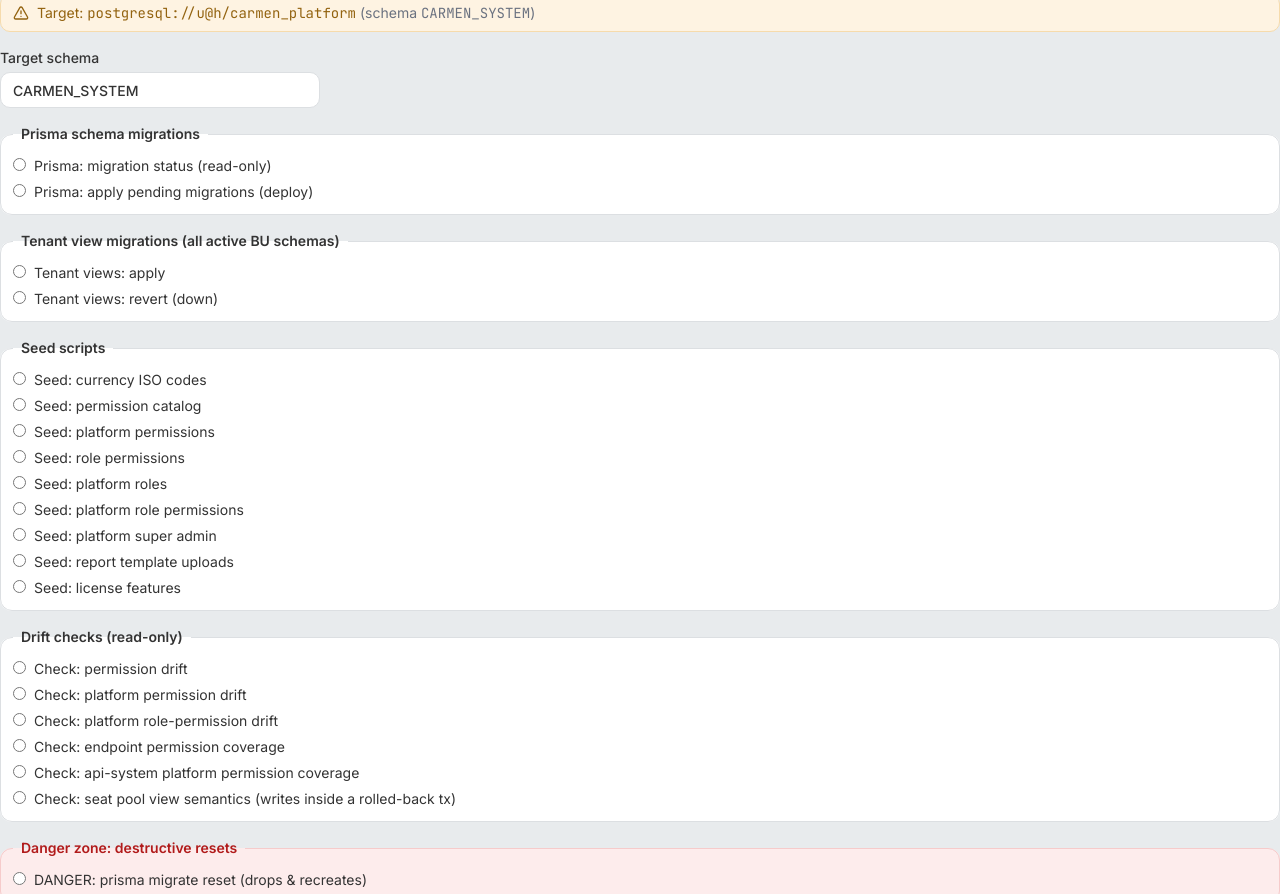
it: destructive op also requires the destroy checkbox
The image size is (1280, 894).
Click the radio button labelled "DANGER: prisma migrate reset (drops & recreates)": click(20, 878) top-left (13, 872), bottom-right (26, 885)
(page scrolled)
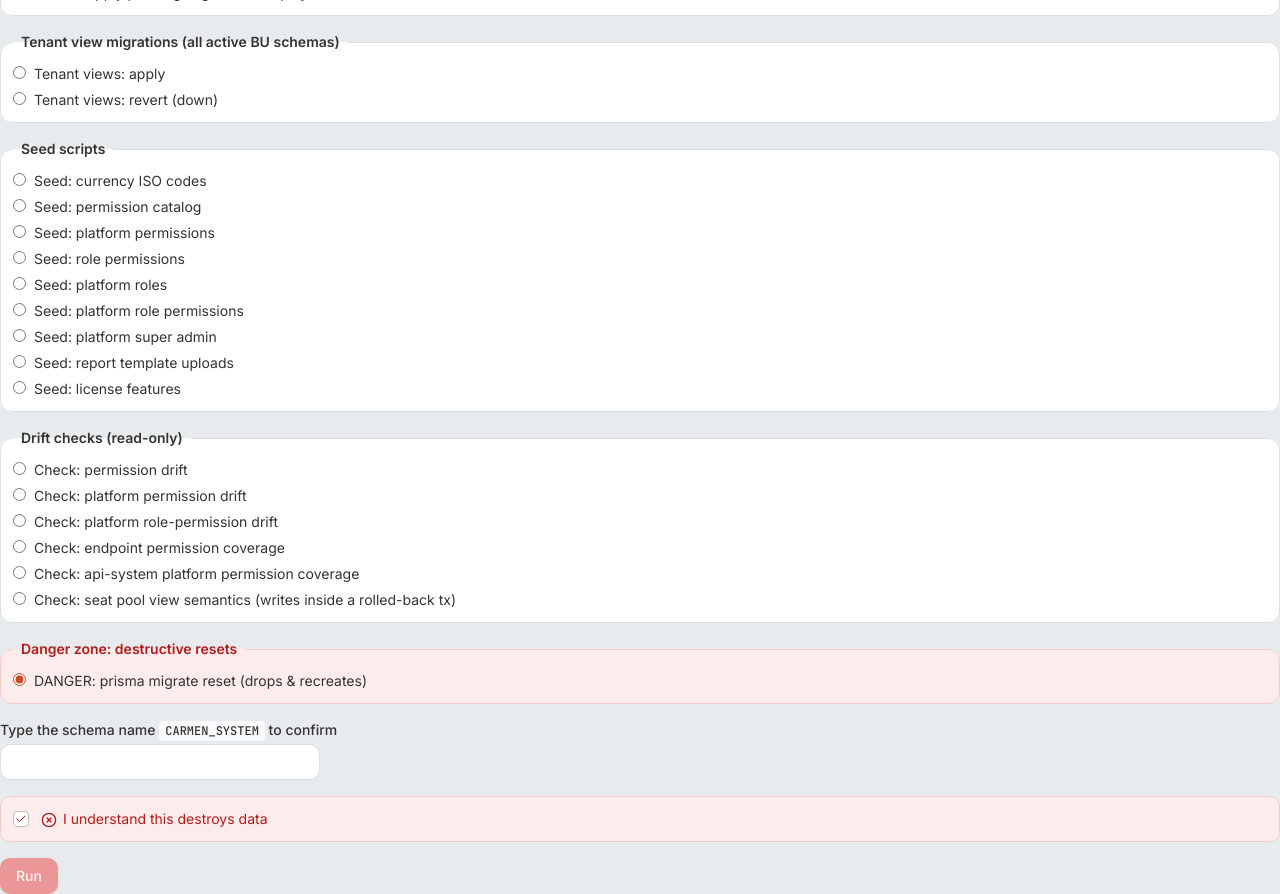
In the field labelled "Type the schema name CARMEN_SYSTEM to confirm": (160, 762) top-left (0, 744), bottom-right (320, 780), type "CARMEN_SYSTEM"
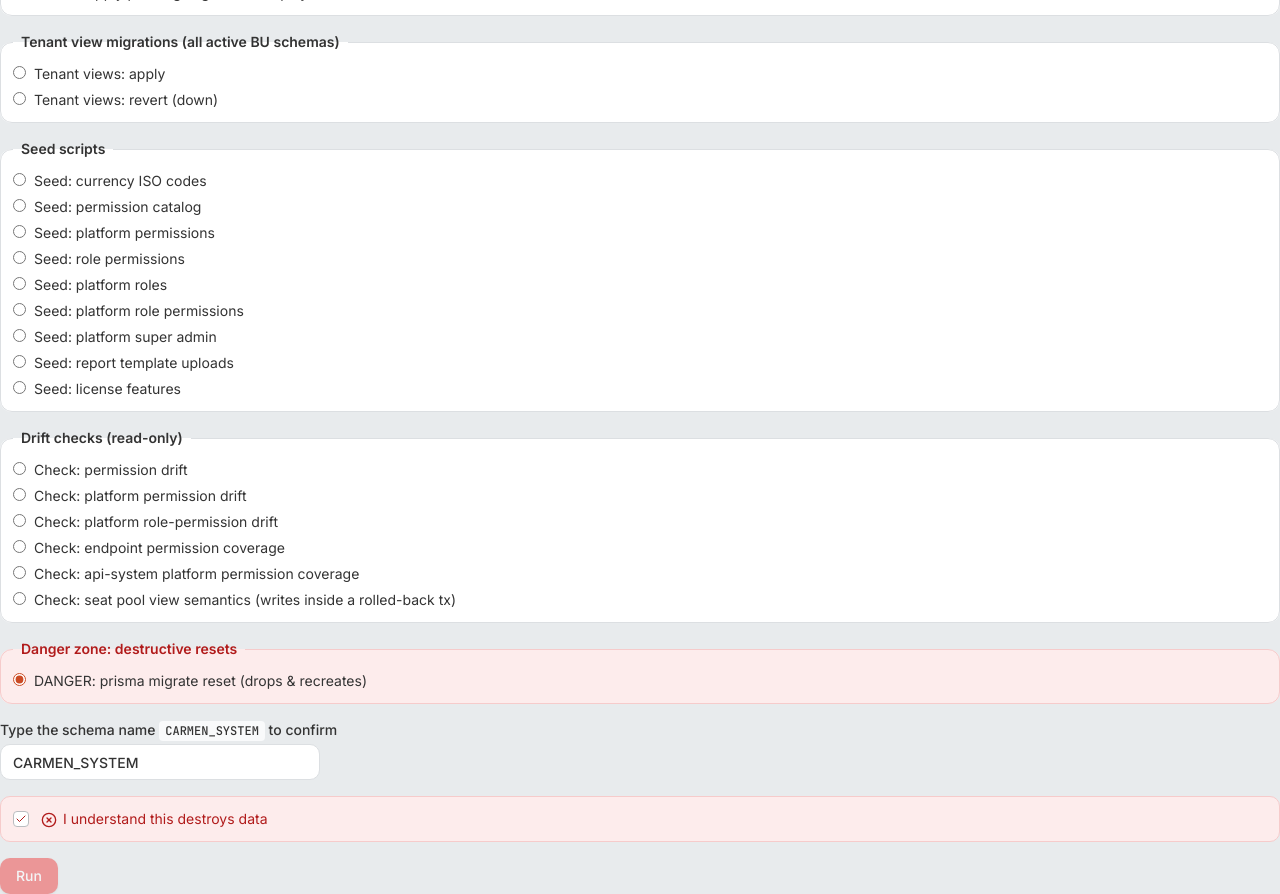
Expected: the button "Run" is disabled, top-left (0, 858), bottom-right (58, 893)
Click the checkbox labelled "I understand this destroys data": click(165, 818) top-left (0, 796), bottom-right (1279, 842)
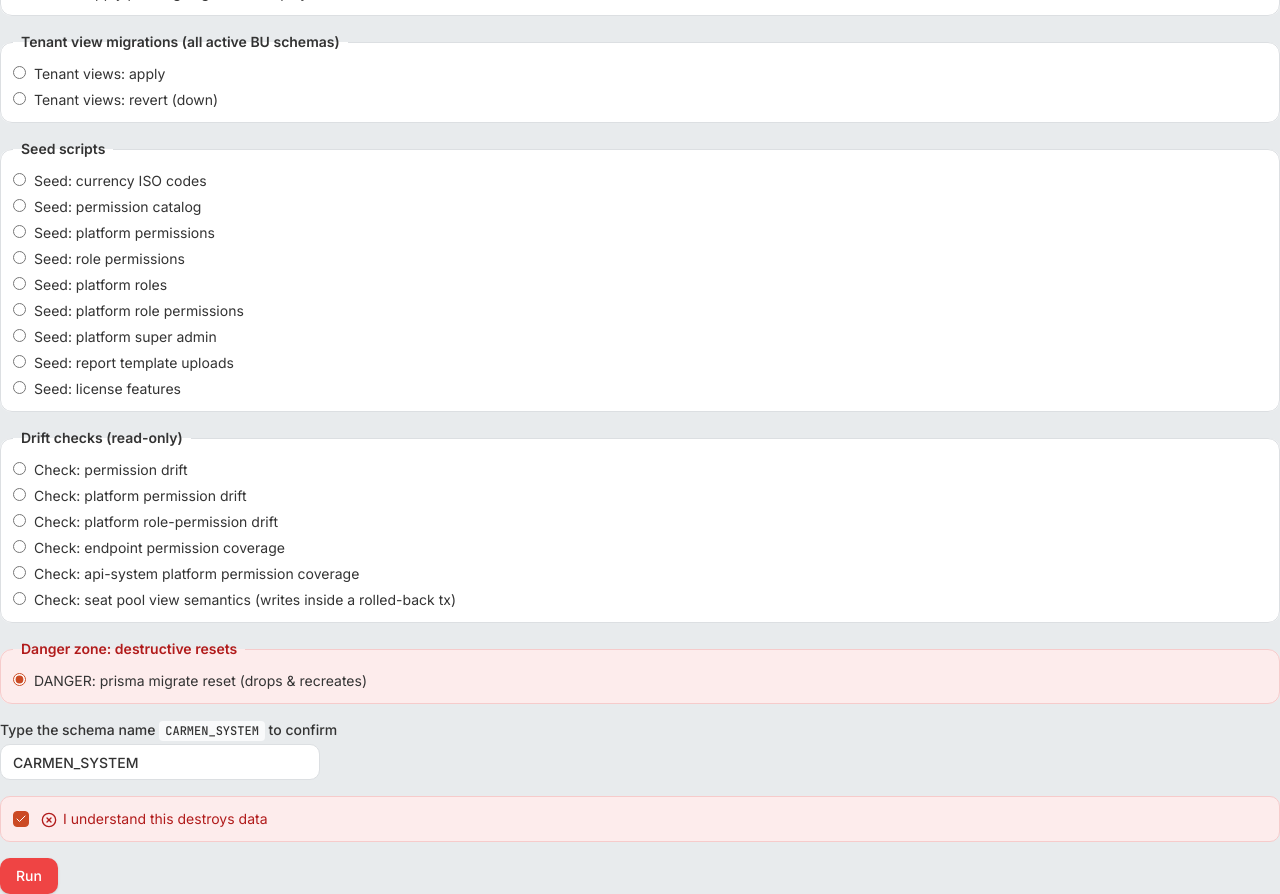
Now the button "Run" is enabled, box top-left (0, 858), bottom-right (58, 893)
